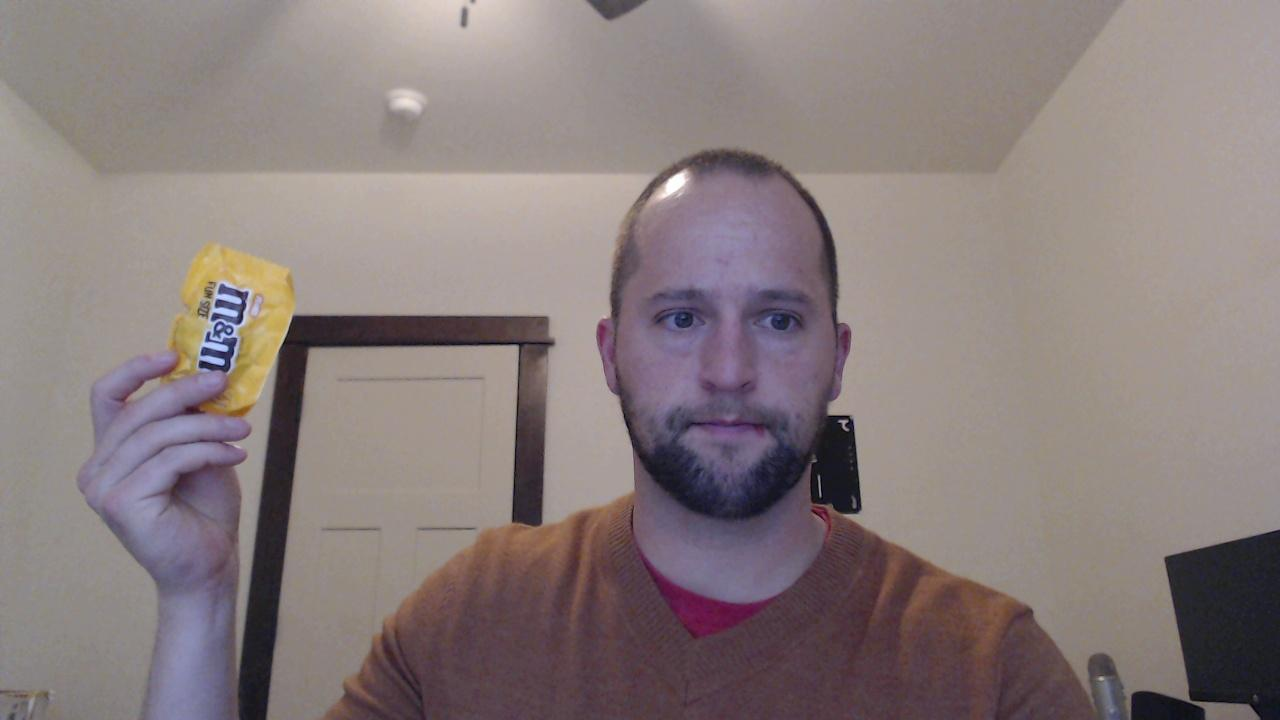airheads: (157, 240, 298, 418)
